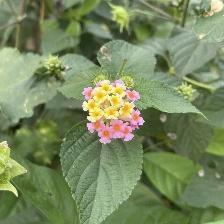common lanthana: (81, 79, 147, 148)
